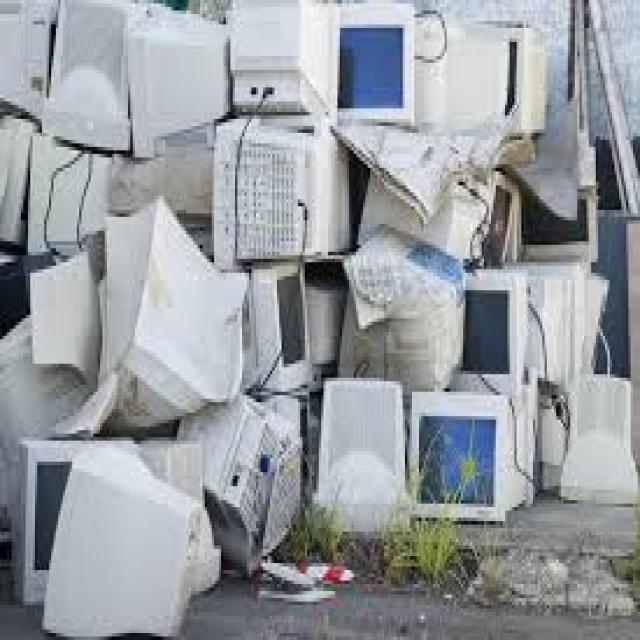Hazard: (0, 14, 637, 621)
